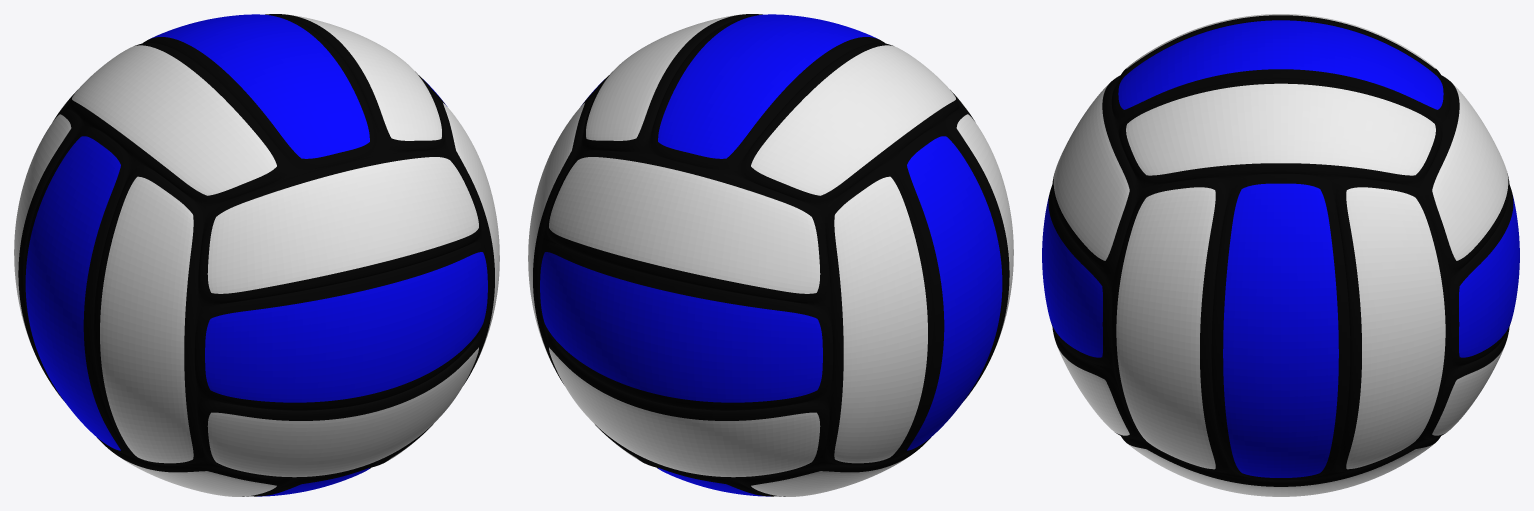
File: volleyball.fbx
3 views of the same model, side by side, from view 1: azimuth 30°, elevation 25°; view 2: azimuth 150°, elevation 25°; view 3: azimuth 270°, elevation 25° (orthographic).
Parts seen in each view (by area): view 1: volleyball; view 2: volleyball; view 3: volleyball.
Boxes of the visible parts, left/top/right/bottom form: volleyball: left=14, top=14, right=499, bottom=496; volleyball: left=528, top=14, right=1013, bottom=496; volleyball: left=1042, top=14, right=1519, bottom=496.
Size of the model in its own units: 125 by 125 by 125.
